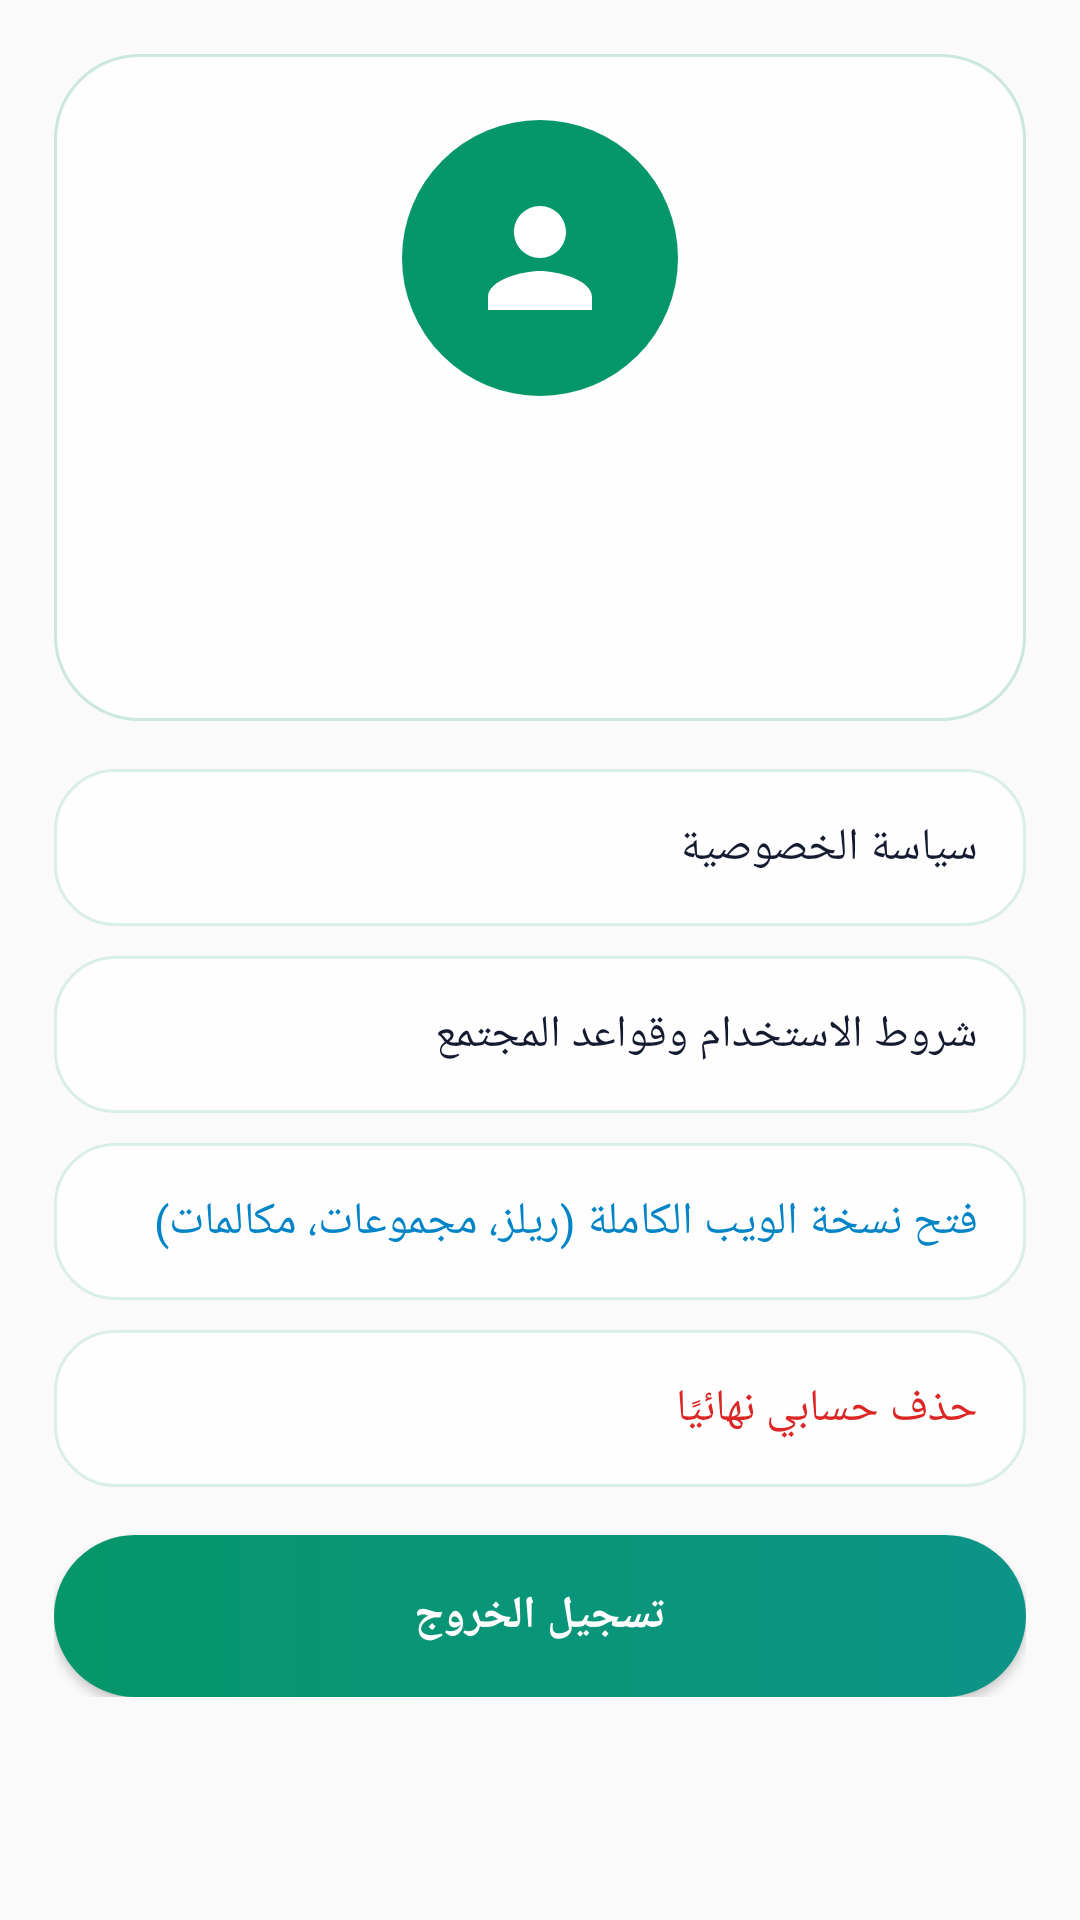

Icons on this 1080×1920 Android screen, each with its box as (x1,y1,x2,y2):
user: (402,120,678,396)
